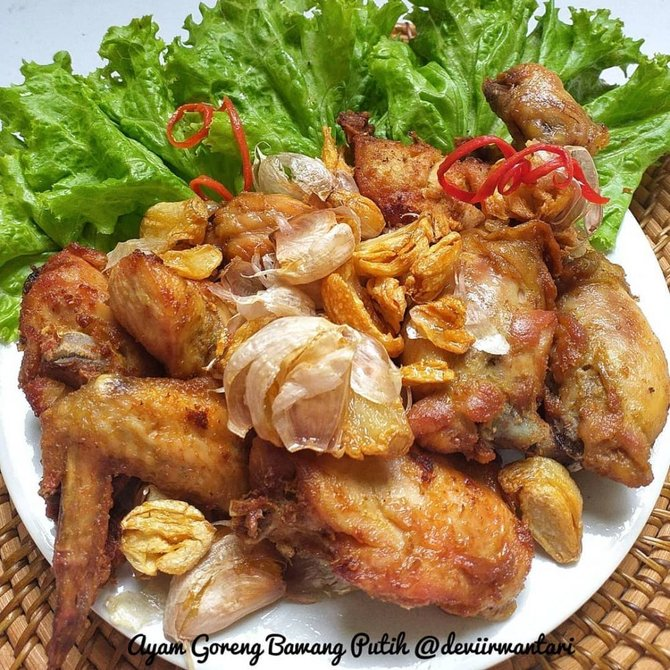Ayam: (25, 352, 245, 649), (229, 463, 558, 608), (540, 218, 670, 502)
